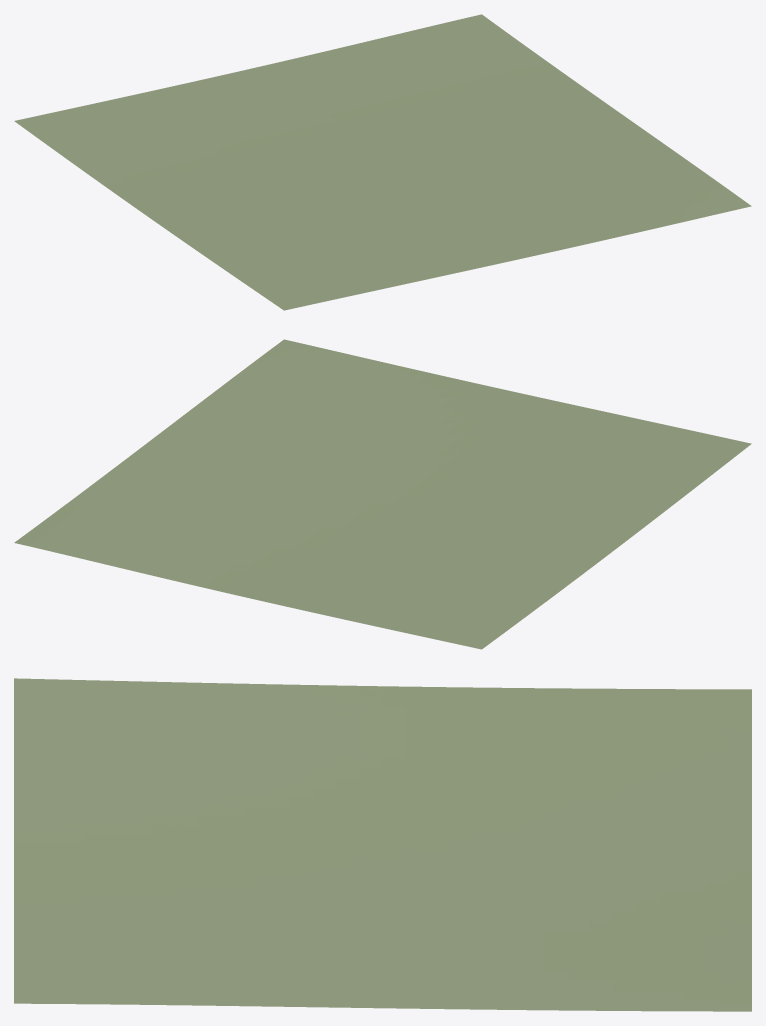
The model's file is expanse-9-19.glb.
3 views of the same model, one above another, from view 1: azimuth 30°, elevation 25°; view 2: azimuth 150°, elevation 25°; view 3: azimuth 270°, elevation 25° (orthographic). The views are drawn at different scales.
Visible parts, largest first — view 1: expanse-9-19; view 2: expanse-9-19; view 3: expanse-9-19.
Part boxes in pixels (bbox=[...]): expanse-9-19: bbox=[14, 14, 751, 310]; expanse-9-19: bbox=[14, 339, 751, 649]; expanse-9-19: bbox=[14, 678, 751, 1011].
Size of the model in its own units: 256 by 8.14 by 256.
